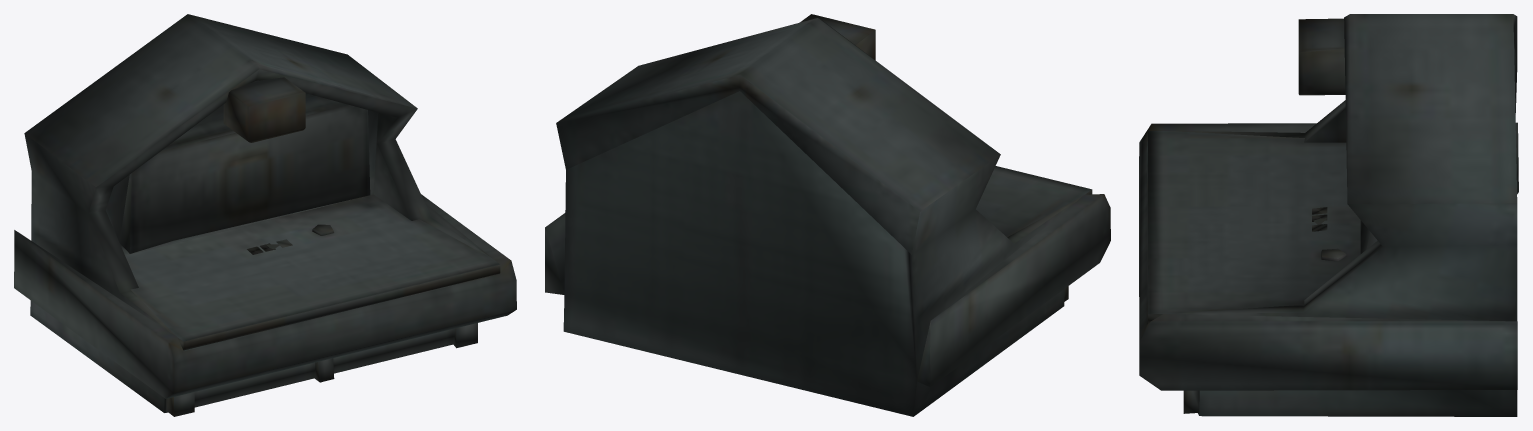
The picture shows the model from 3 angles, left to right: view 1: azimuth 30°, elevation 25°; view 2: azimuth 150°, elevation 25°; view 3: azimuth 270°, elevation 25°; orthographic projection. The views are drawn at different scales.
Size of the model in its own units: 2 by 1.48 by 1.62.
Materials: 1 (1 with a texture image).
